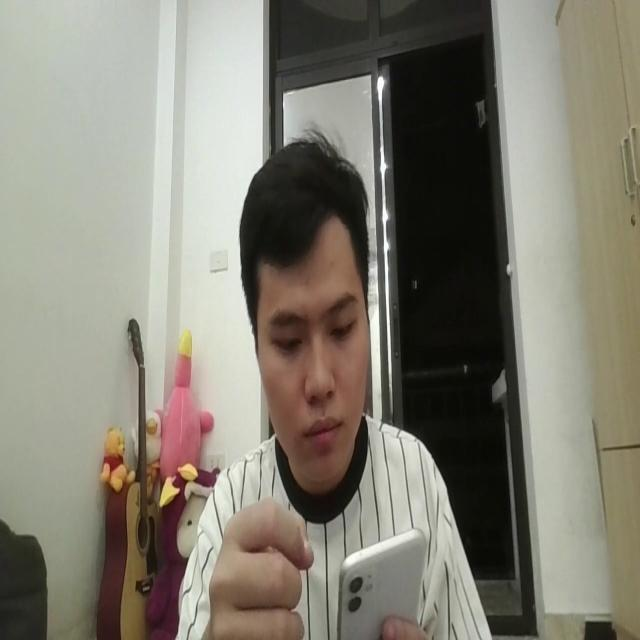phone: (338, 524, 426, 640)
student: (179, 130, 491, 640)
